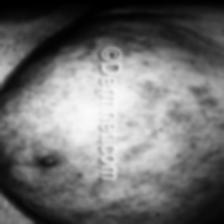Potentially Malignant Skin Tumors: (128, 79, 220, 172), (7, 58, 86, 146), (76, 192, 142, 224)
